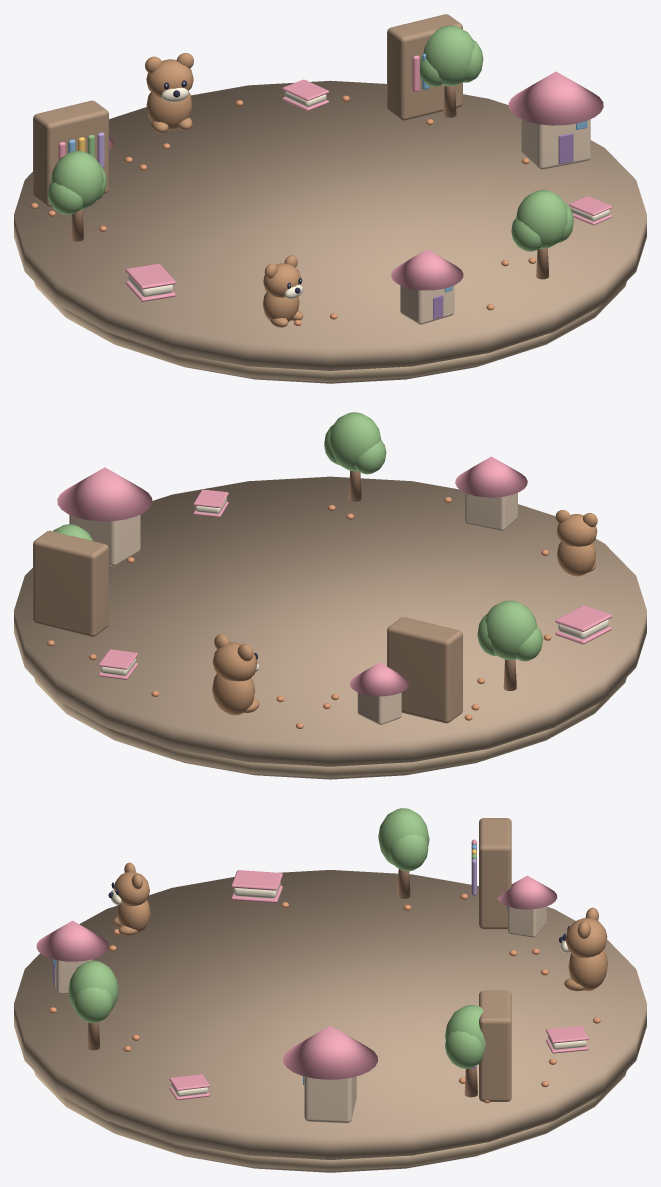
File: world.glb
The picture shows the model from 3 angles, top to bottom: view 1: azimuth 30°, elevation 25°; view 2: azimuth 150°, elevation 25°; view 3: azimuth 270°, elevation 25°; orthographic projection.
Parts seen in each view (by area): view 1: Cone, house.001, Cone.001, Cube.006, Cube, house.003, tree.001, tree.003, bear.001, tree.002, bear.002, book.002 (+3 smaller); view 2: Cone, Cube.006, Cube, Cone.001, house.001, house.003, tree.002, tree.003, bear.001, house.002, bear.002, book.002 (+3 smaller); view 3: Cone, Cone.001, house.001, Cube.006, Cube, tree.002, bear.001, tree.003, house.003, tree.001, house.002, bear.002 (+4 smaller).
Part boxes in pixels (box(x1,y1,x2,y2)): Cone: box(14, 80, 646, 370); house.001: box(508, 71, 603, 169); Cone.001: box(34, 281, 626, 382); Cube.006: box(387, 14, 462, 120); Cube: box(33, 100, 108, 206); house.003: box(391, 249, 463, 324); tree.001: box(420, 25, 483, 117); tree.003: box(511, 190, 573, 279); bear.001: box(145, 53, 193, 133); tree.002: box(47, 150, 106, 241); bear.002: box(262, 255, 303, 327); book.002: box(125, 263, 175, 301); Cone: box(14, 476, 646, 766); Cube.006: box(33, 530, 108, 636); Cube: box(387, 617, 462, 723); Cone.001: box(34, 677, 626, 778); house.001: box(57, 467, 152, 566); house.003: box(455, 456, 527, 530); tree.002: box(477, 600, 542, 690); tree.003: box(324, 412, 386, 501); bear.001: box(212, 634, 259, 715); house.002: box(350, 662, 409, 724); bear.002: box(555, 510, 597, 576); book.002: box(555, 605, 611, 644); Cone: box(14, 870, 646, 1159); Cone.001: box(34, 1071, 626, 1171); house.001: box(283, 1025, 377, 1123); Cube.006: box(479, 990, 511, 1101); Cube: box(479, 818, 511, 929); tree.002: box(378, 808, 429, 898); bear.001: box(559, 907, 607, 991); tree.003: box(68, 960, 118, 1050); house.003: box(36, 920, 108, 994); tree.001: box(445, 1004, 486, 1097); house.002: box(497, 875, 557, 937); bear.002: box(108, 862, 150, 935).
Bounding box in the file's own units: 9.6 × 2.26 × 9.6.
